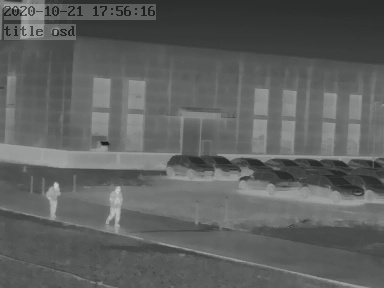person: (106, 185, 122, 229), (46, 179, 60, 219)
vehicle: (236, 169, 303, 191), (305, 173, 358, 200), (165, 152, 213, 179), (204, 153, 243, 177), (350, 173, 383, 200), (231, 154, 271, 172), (261, 155, 297, 170), (348, 156, 380, 170), (317, 156, 346, 170), (295, 156, 325, 169)
